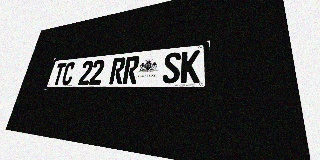2: (89, 59, 105, 85), (78, 60, 94, 85)
C: (61, 62, 76, 85)
K: (180, 50, 200, 83)
R: (122, 56, 140, 84), (109, 57, 126, 84)
S: (162, 52, 181, 83)
T: (51, 63, 67, 85)
